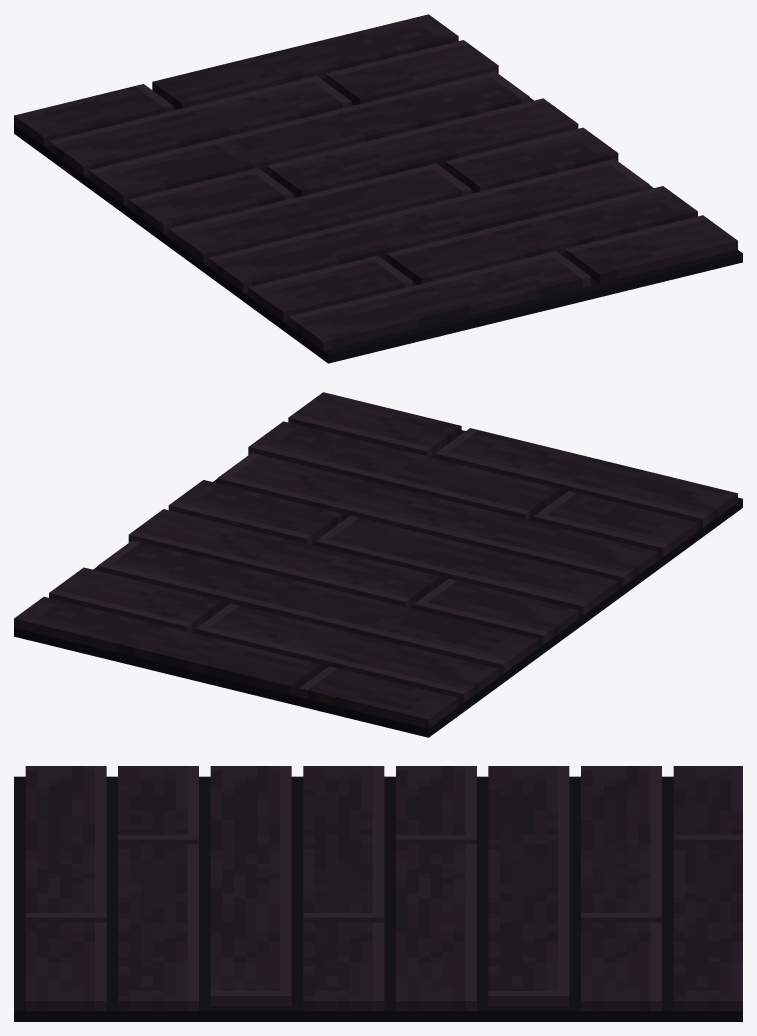
File: Floor-9.obj
3 renders of one model, top to bottom at view 1: azimuth 30°, elevation 25°; view 2: azimuth 150°, elevation 25°; view 3: azimuth 270°, elevation 25°, orthographic. The views are drawn at different scales.
Size of the model in its own units: 4.8 by 0.2 by 6.3.
1 material, 1 textured.
